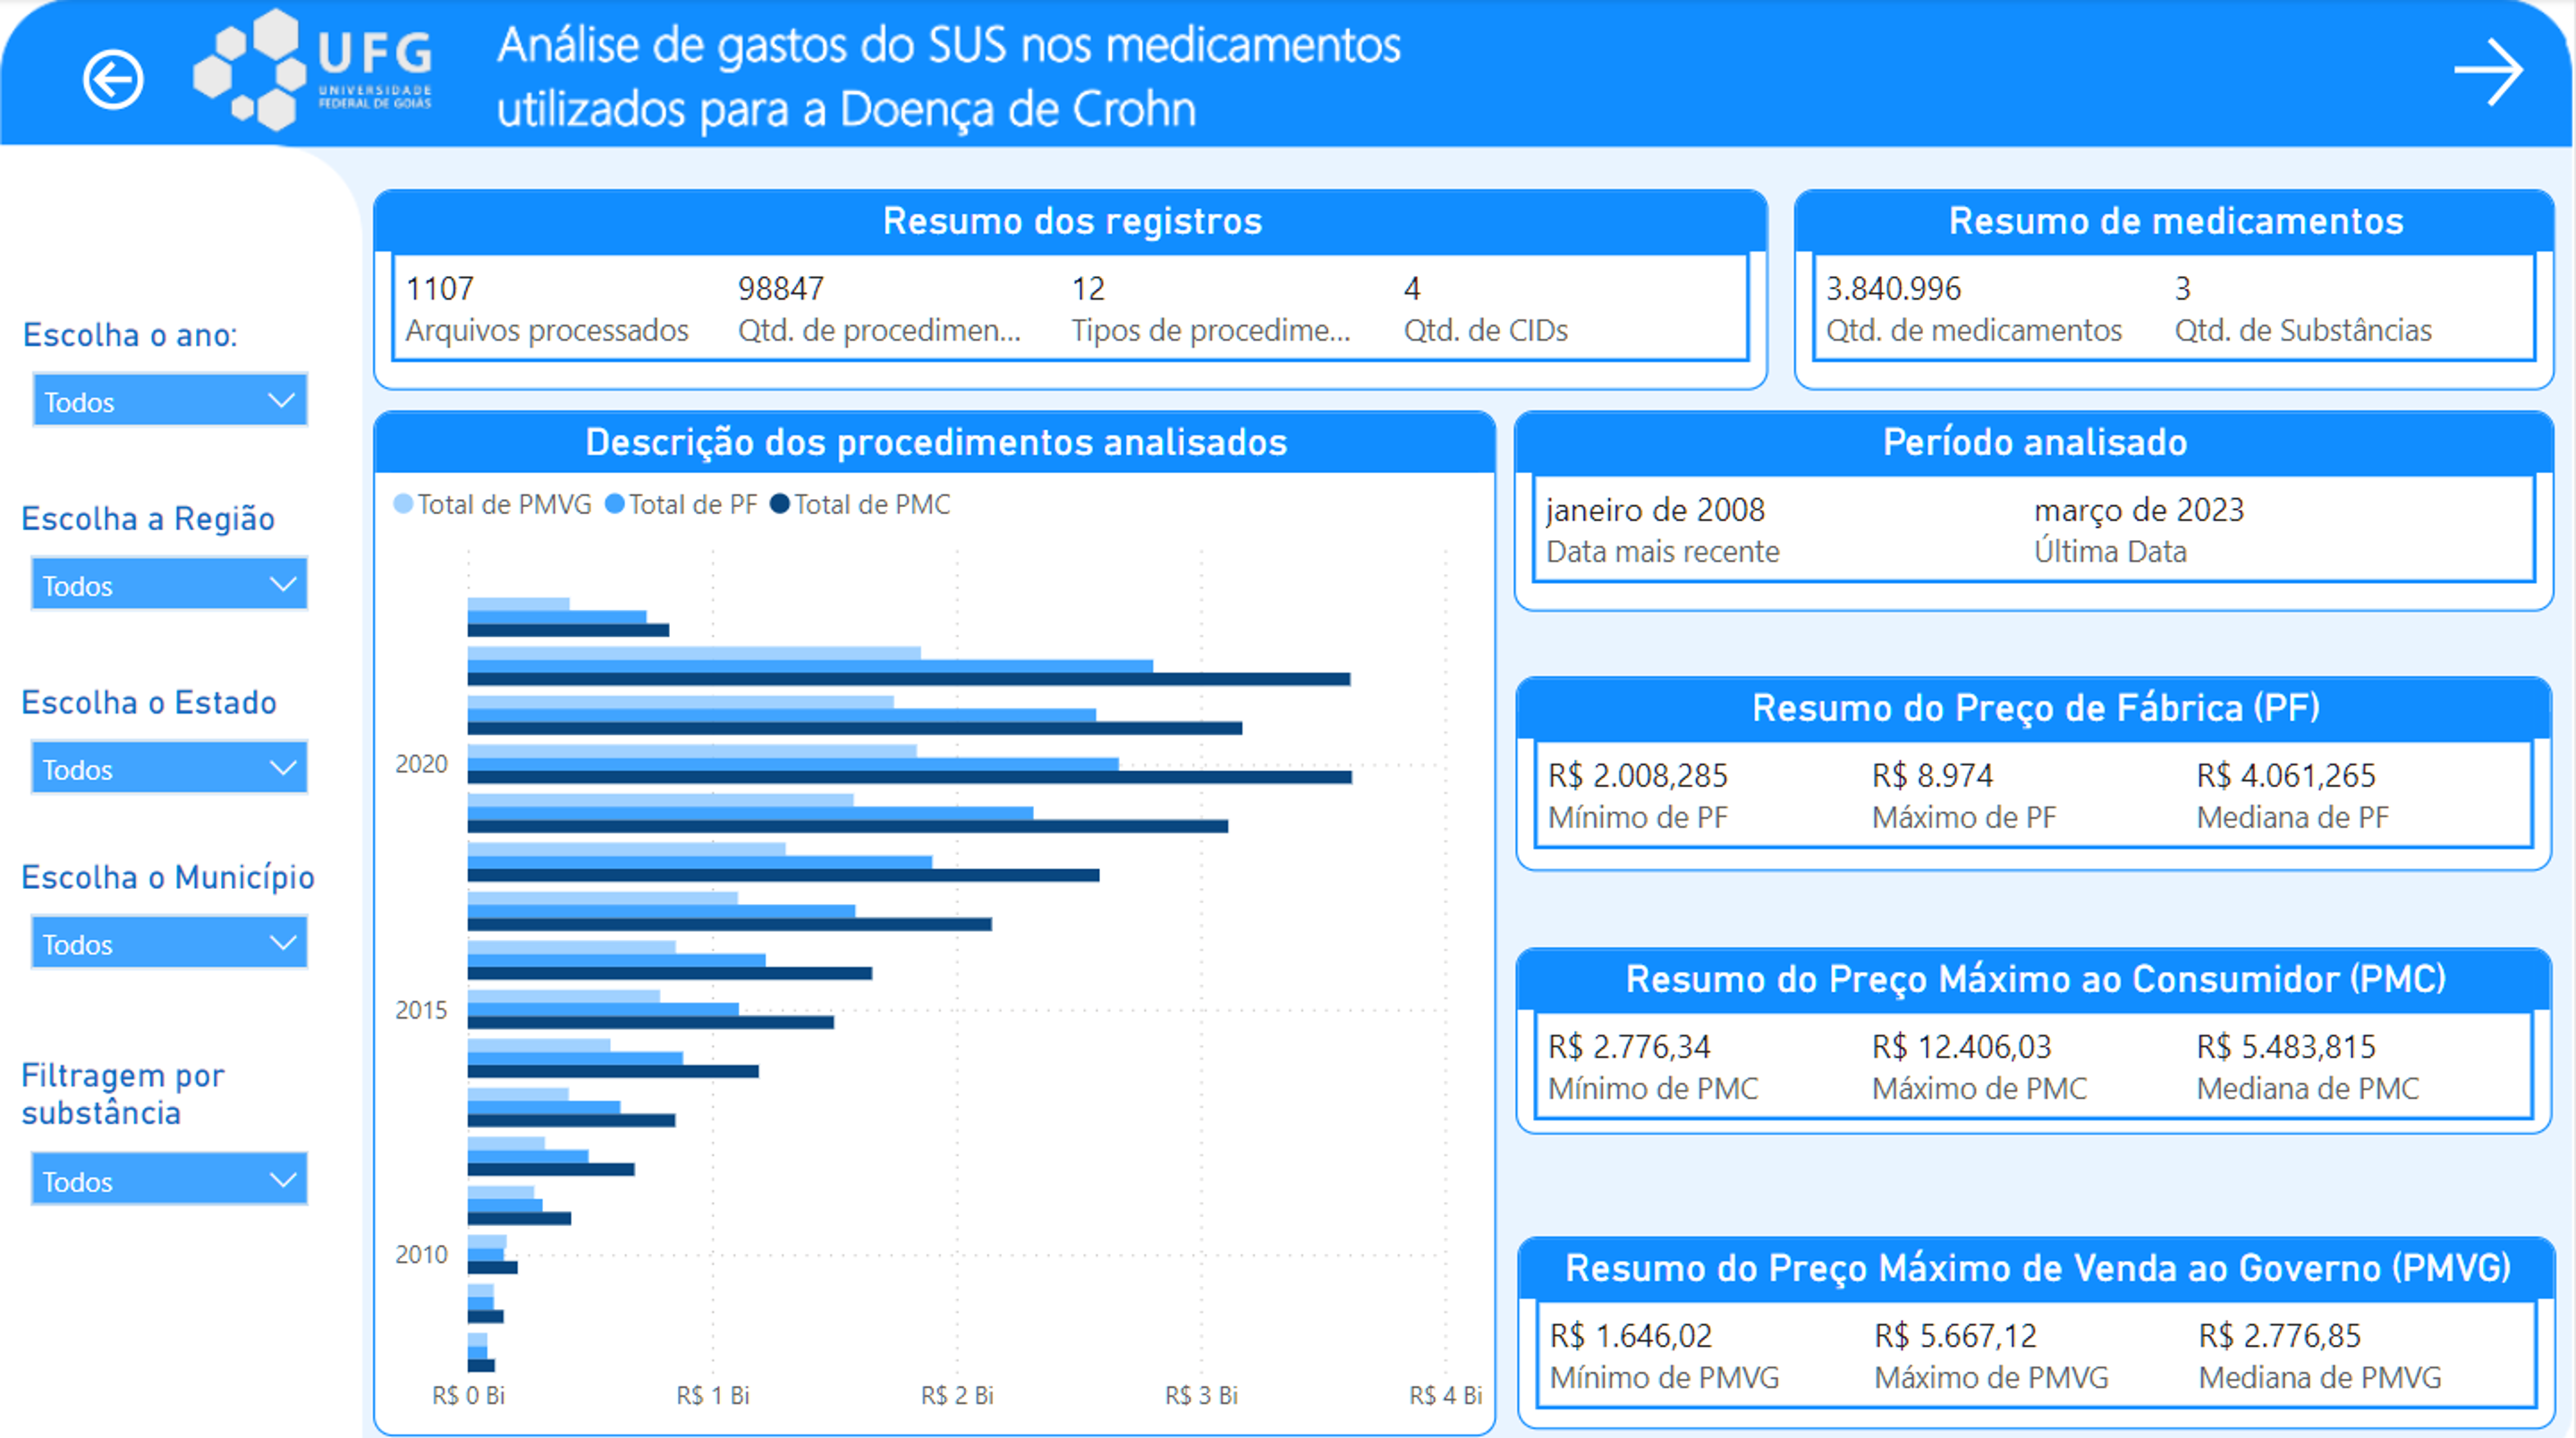

The dashboard page shown, as its layout file describes it:
{"tool":"powerbi","page":{"name":"Resumo dos registros","canvas":[1280,720],"ordinal":1},"visuals":[{"type":"multiRowCard","title":"Resumo dos registros","fields":{"Values":["dados_agrupados_cid.Arquivo","dados_agrupados_cid.Código do Procedimento","dados_agrupados_cid.Código do Procedimento1","dados_agrupados_cid.CID"]},"box":[186.7,95,693.3,100],"z":0},{"type":"multiRowCard","title":"Resumo de medicamentos","fields":{"Values":["Sum(dados_agrupados_cid.Quantidade)","dados_agrupados_cid.Substância"]},"box":[893.3,95,378.3,100],"z":1000},{"type":"multiRowCard","title":"Resumo do Preço de Fábrica (PF)","fields":{"Values":["Min(dados_agrupados_cid.PF BASE)1","Max(dados_agrupados_cid.PF BASE)","Median(dados_agrupados_cid.PF BASE)2"]},"box":[755,336.7,515,96.7],"z":2000},{"type":"multiRowCard","title":"Resumo do Preço Máximo ao Consumidor (PMC)","fields":{"Values":["Min(dados_agrupados_cid.PMC BASE)","Max(dados_agrupados_cid.PMC BASE)1","Median(dados_agrupados_cid.PMC BASE)2"]},"box":[755,471.7,515,93.3],"z":3000},{"type":"multiRowCard","title":"Resumo do Preço Máximo de Venda ao Governo (PMVG)","fields":{"Values":["Min(dados_agrupados_cid.PMVG BASE)","Max(dados_agrupados_cid.PMVG BASE)1","Median(dados_agrupados_cid.PMVG BASE)2"]},"box":[755.6,615.6,515.6,95.6],"z":4000},{"type":"clusteredBarChart","title":"Descrição dos procedimentos analisados","fields":{"Category":["Calendário M.Ano"],"Y":["Sum(dados_agrupados_cid.PMVG)","Sum(dados_agrupados_cid.PF)","Sum(dados_agrupados_cid.PMC)"]},"box":[186.7,205,558.3,510],"z":5000},{"type":"multiRowCard","title":"Período analisado","fields":{"Values":["dados_agrupados_cid.Data","dados_agrupados_cid.Data1"]},"box":[753.3,205,516.7,100],"z":6000},{"type":"actionButton","box":[1215,14,55,45],"z":7000},{"type":"slicer","title":"Escolha o ano:","fields":{"Values":["Calendário M.Data.Variation.Hierarquia de datas.Ano"]},"box":[8.3,156.7,156.7,60],"z":8000},{"type":"slicer","title":"Escolha o Estado","fields":{"Values":["Estados.Nome do Estado"]},"box":[7.5,340,158.3,65],"z":9000},{"type":"slicer","title":"Escolha o Município","fields":{"Values":["dados_agrupados_cid.Nome do Município"]},"box":[7.5,426.7,158.3,65],"z":10000},{"type":"slicer","title":"Escolha a Região","fields":{"Values":["Estados.Nome da Região"]},"box":[7.5,248.3,158.3,71.7],"z":11000},{"type":"slicer","title":"Filtragem por substância","fields":{"Values":["dados_agrupados_cid.Substância"]},"box":[7.5,525,158.3,81.7],"z":12000},{"type":"actionButton","box":[38.3,20,100,40],"z":13000}]}

Visuals, with their boxes in screenshot pixels (x1, y1, x2, y2), scaled from the page's 1280x720 canvas onto the 2576x1438 screenshot:
"Resumo dos registros" multiRowCard: 376:190:1771:390
"Resumo de medicamentos" multiRowCard: 1798:190:2559:390
"Resumo do Preço de Fábrica (PF)" multiRowCard: 1520:672:2556:866
"Resumo do Preço Máximo ao Consumidor (PMC)" multiRowCard: 1520:942:2556:1129
"Resumo do Preço Máximo de Venda ao Governo (PMVG)" multiRowCard: 1521:1230:2558:1420
"Descrição dos procedimentos analisados" clusteredBarChart: 376:410:1499:1428
"Período analisado" multiRowCard: 1516:410:2556:609
actionButton: 2445:28:2556:118
"Escolha o ano:" slicer: 17:313:332:433
"Escolha o Estado" slicer: 15:679:334:808
"Escolha o Município" slicer: 15:852:334:982
"Escolha a Região" slicer: 15:496:334:639
"Filtragem por substância" slicer: 15:1048:334:1212
actionButton: 77:40:278:120
